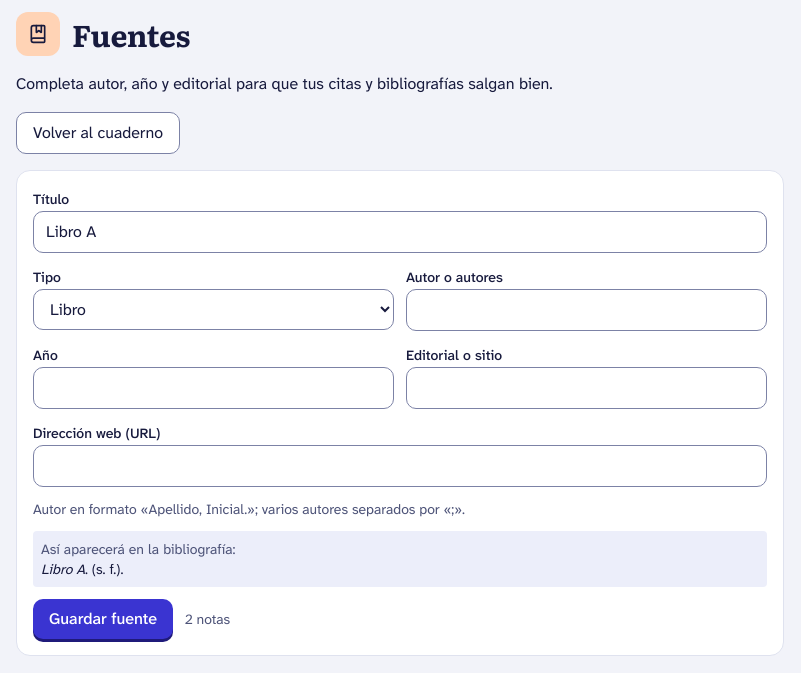
it: SourcesPage › muestra cada fuente con su número de notas y guarda el año
This screenshot has width=801, height=673.
Type "2020" into the field labelled "Año". click: (214, 388)
box: [33,367,394,409]
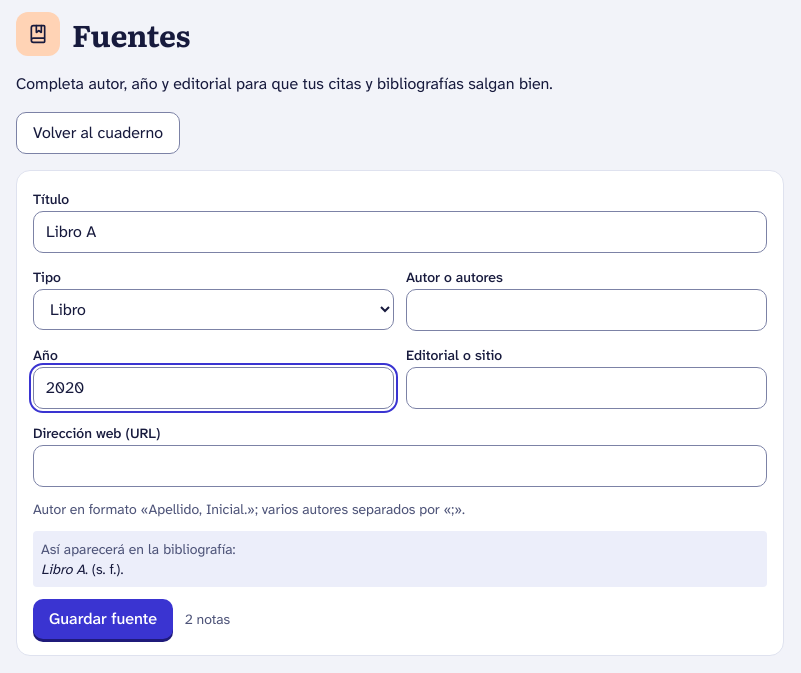
Type "Pérez, A." into the field labelled "Autor o autores". click: (586, 310)
box: [406,289,767,331]
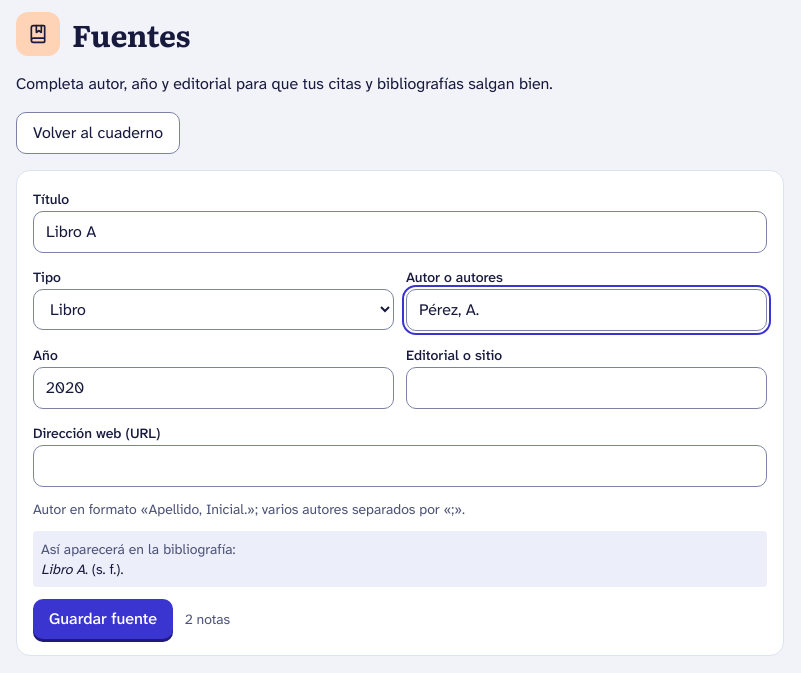
Click the button "Guardar fuente". click: (103, 619)
box: [33,599,173,639]
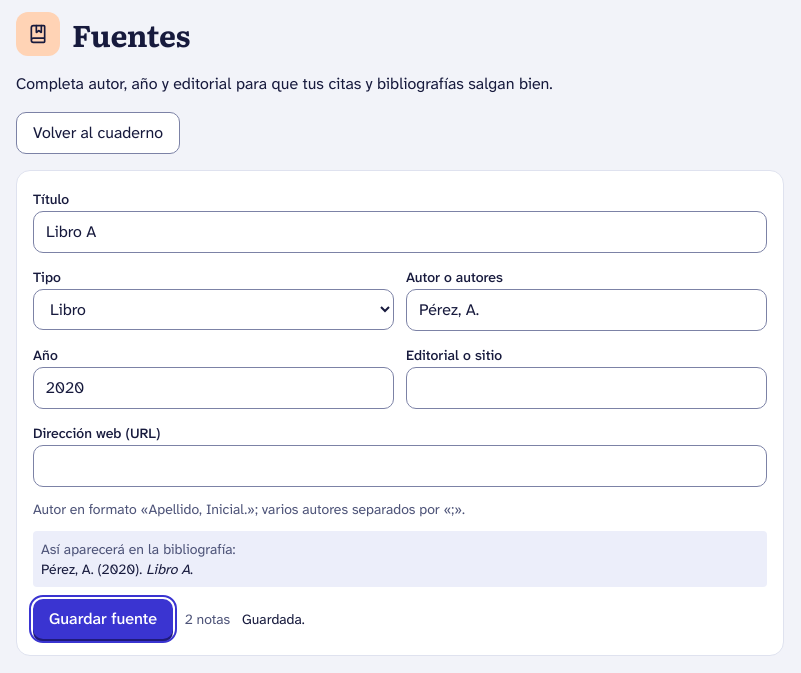
Expected: the text "Guardada." is shown, [242,609,305,629]
